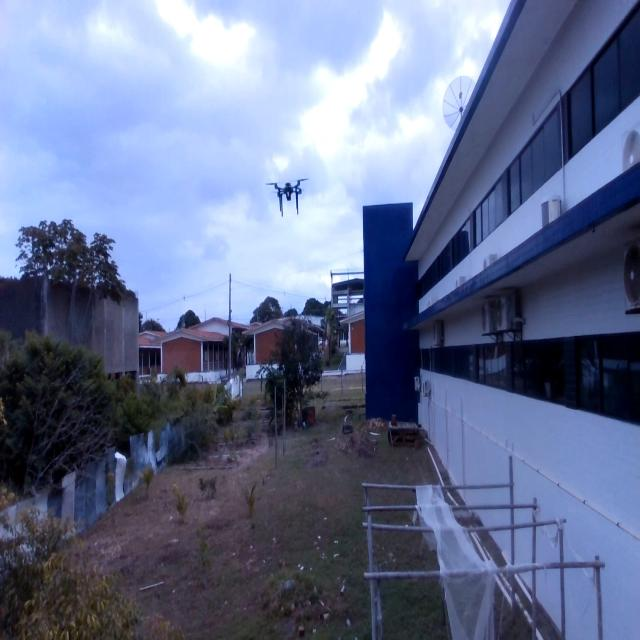-uav-: (266, 172, 312, 219)
